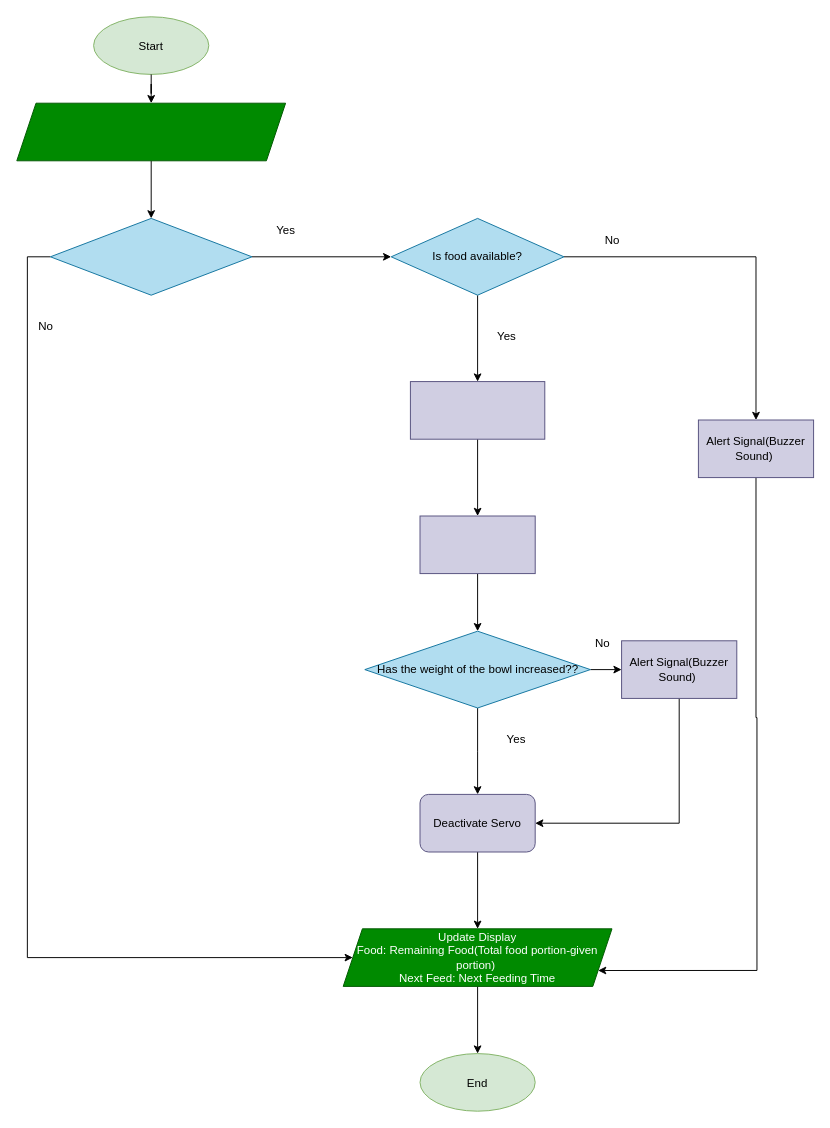
Some shapes in this 830 by 1128 pixel diagram are drawn without their labels. The box of each missing label's shape, as (x1, y1, x2, y2) in pixels:
Activate Servo to Dispense Food portion: (409, 381, 545, 439)
Input Display Food: Total Food Next Feed: Next Feeding Time: (16, 102, 286, 161)
Is it feeding time?: (49, 217, 252, 295)
Wait 10 minutes: (419, 515, 535, 574)
